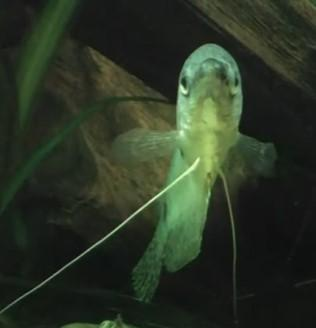Gourami: (112, 42, 274, 317)
